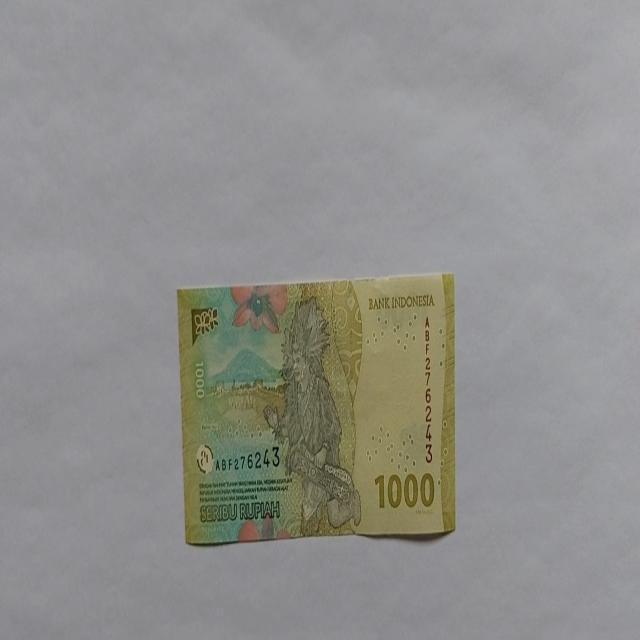seribu rupiah kertas: (176, 271, 457, 546)
